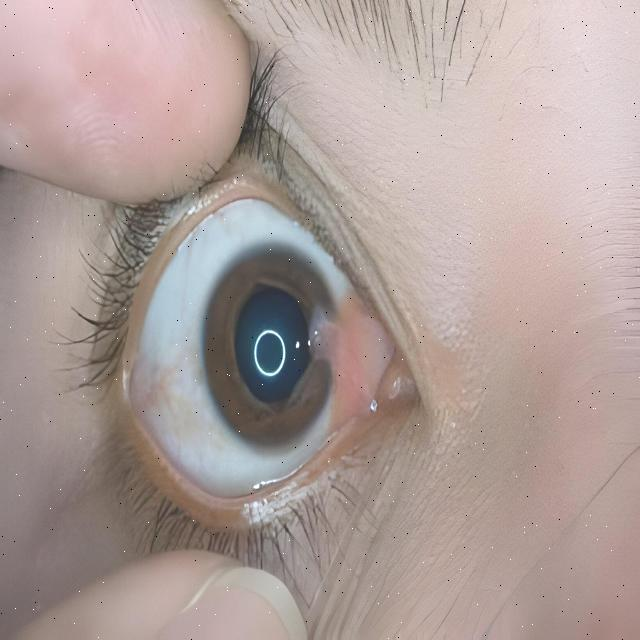Pterygium: (304, 304, 406, 419)
